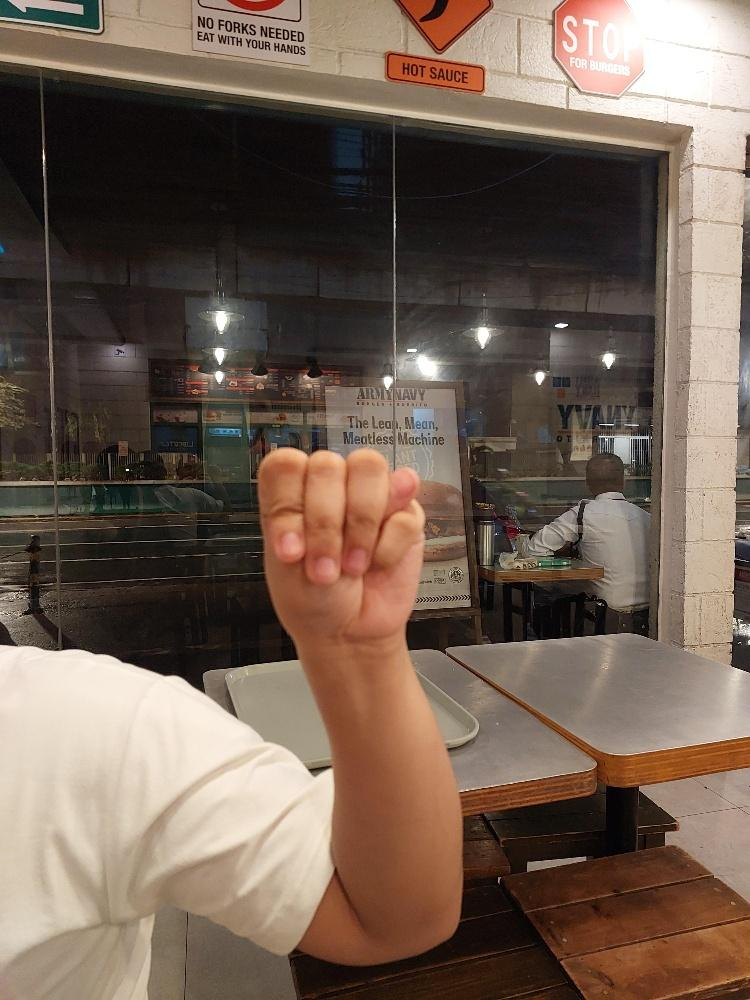m: (253, 444, 427, 644)
